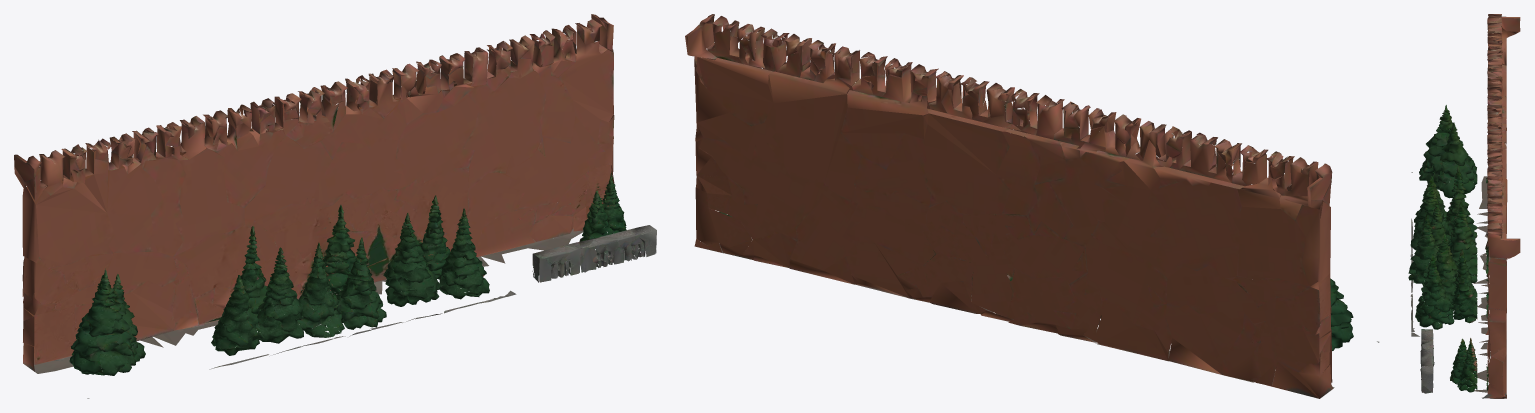
File: kremlin-wall.glb
3 views of the same model, side by side, from view 1: azimuth 30°, elevation 25°; view 2: azimuth 150°, elevation 25°; view 3: azimuth 270°, elevation 25° (orthographic). The views are drawn at different scales.
Parts seen in each view (by area): view 1: kr_wall, kr_firs; view 2: kr_wall, kr_firs; view 3: kr_firs, kr_wall.
Part boxes in pixels (x1,y1,x2,y2): kr_wall: [14, 14, 615, 373]; kr_firs: [69, 171, 656, 398]; kr_wall: [685, 14, 1334, 398]; kr_firs: [719, 212, 1379, 350]; kr_firs: [1408, 105, 1477, 393]; kr_wall: [1473, 14, 1520, 398].
Bounding box in the file's own units: 46.53 × 16.04 × 9.87.
Materials: 1 (1 with a texture image).
